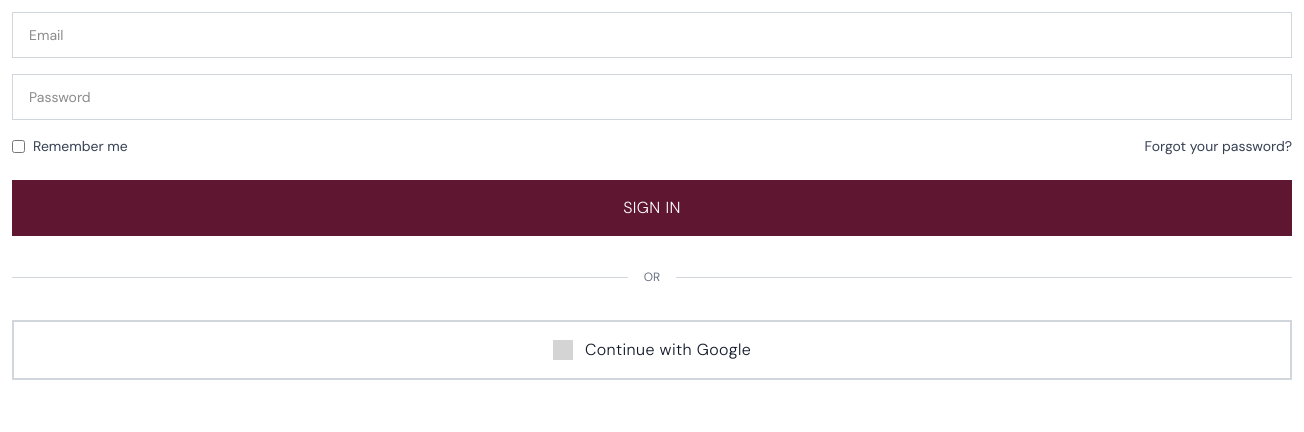
it: SignInForm › Interactions › sends a password reset email and shows a notice
Type "jane@example.com" into the field labelled "Email" at (652, 35), box [12,12,1292,58]
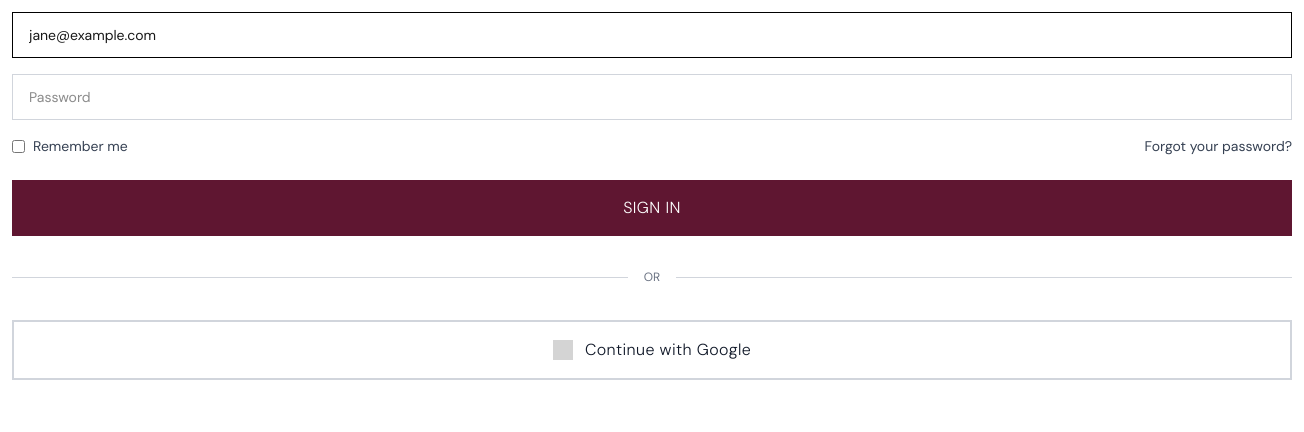
Click the button "Forgot your password?" at (1218, 146), box [1144,136,1292,156]
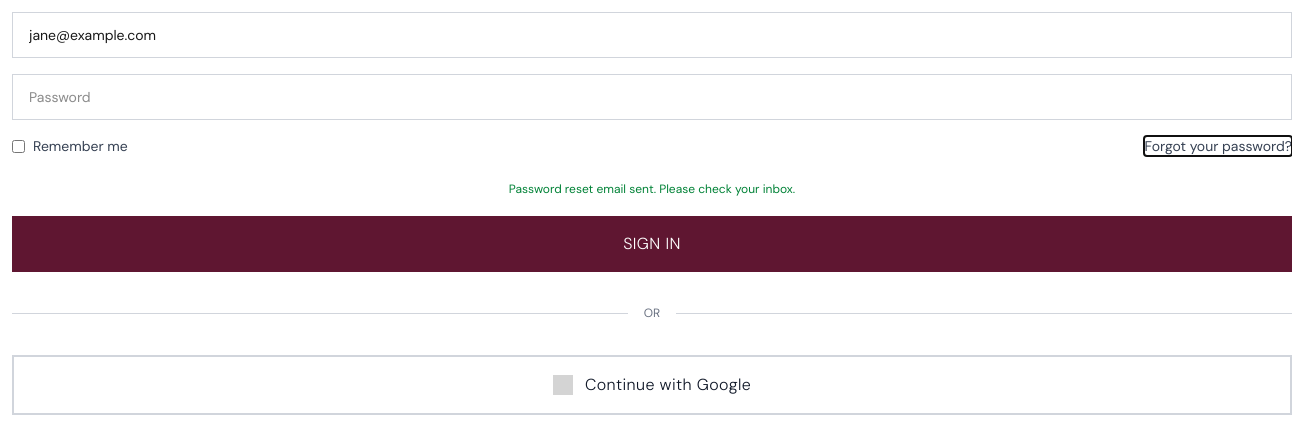
Expected: the message reads "Password reset email sent. Please check your inbox.", [509,181,795,197]
